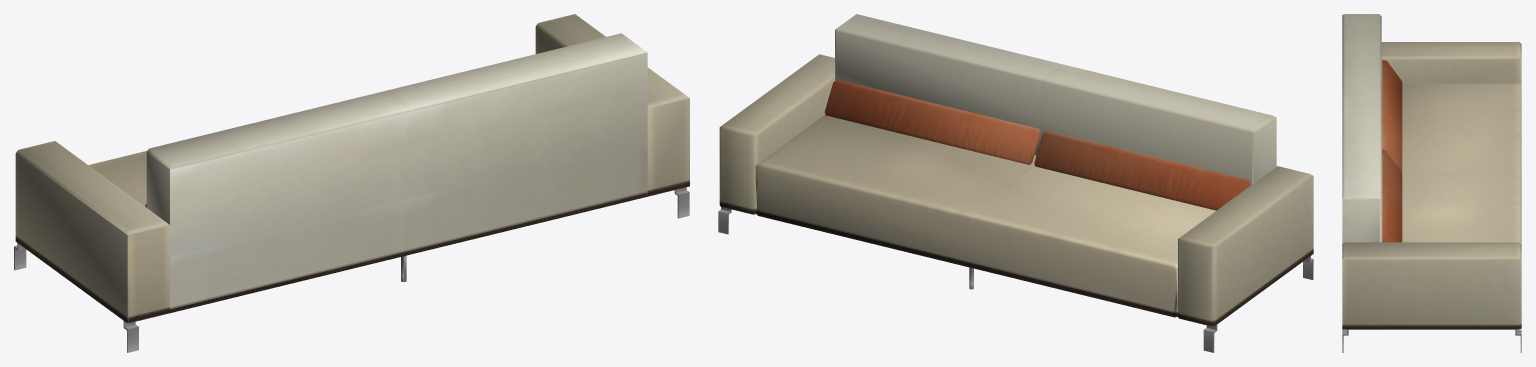
The model's file is Sofa2.fbx.
The picture shows the model from 3 angles, left to right: view 1: azimuth 30°, elevation 25°; view 2: azimuth 150°, elevation 25°; view 3: azimuth 270°, elevation 25°; orthographic projection. The views are drawn at different scales.
Visible parts, largest first — view 1: Empty_Mesh; view 2: Empty_Mesh; view 3: Empty_Mesh.
Boxes of the visible parts, x1,y1,x2,y2 form: Empty_Mesh: (14,14,689,352); Empty_Mesh: (718,14,1313,352); Empty_Mesh: (1342,14,1521,352).
Size of the model in its own units: 200 by 60 by 70.
